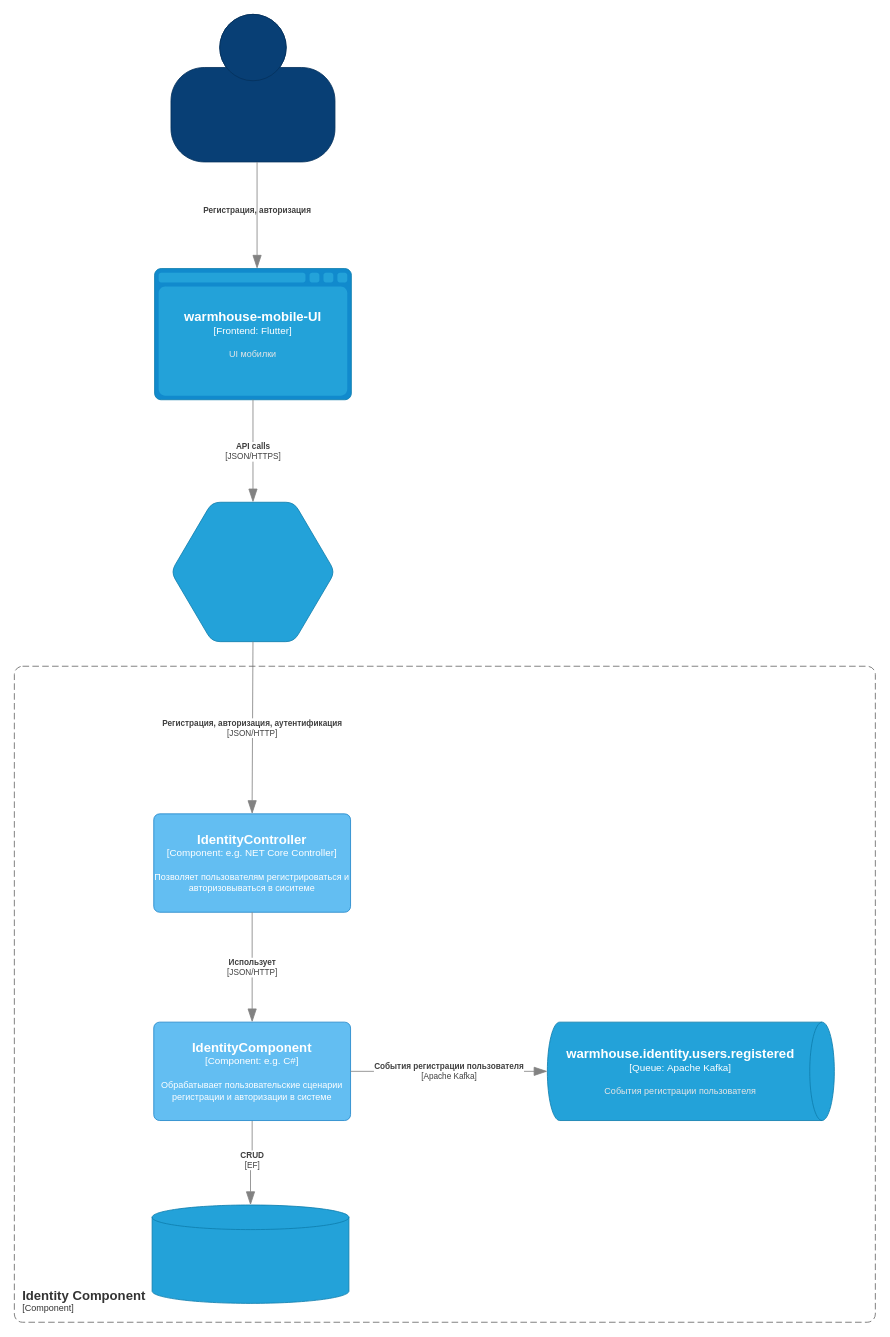
This 890x1337 diagram has some shape labels left out. The shapes that lost their labels are listed below. From the top down, each one's centre as x and y in pixels, then its label:
At pixel 252 88: "Пользователь [Role] Описание роли".
At pixel 252 571: "warmhouse- mobile-gateway [Service: YARP] Gateway мобилки".
At pixel 250 1253: "warmhouse_identity [Database: PostgreSQL] БД identity".
